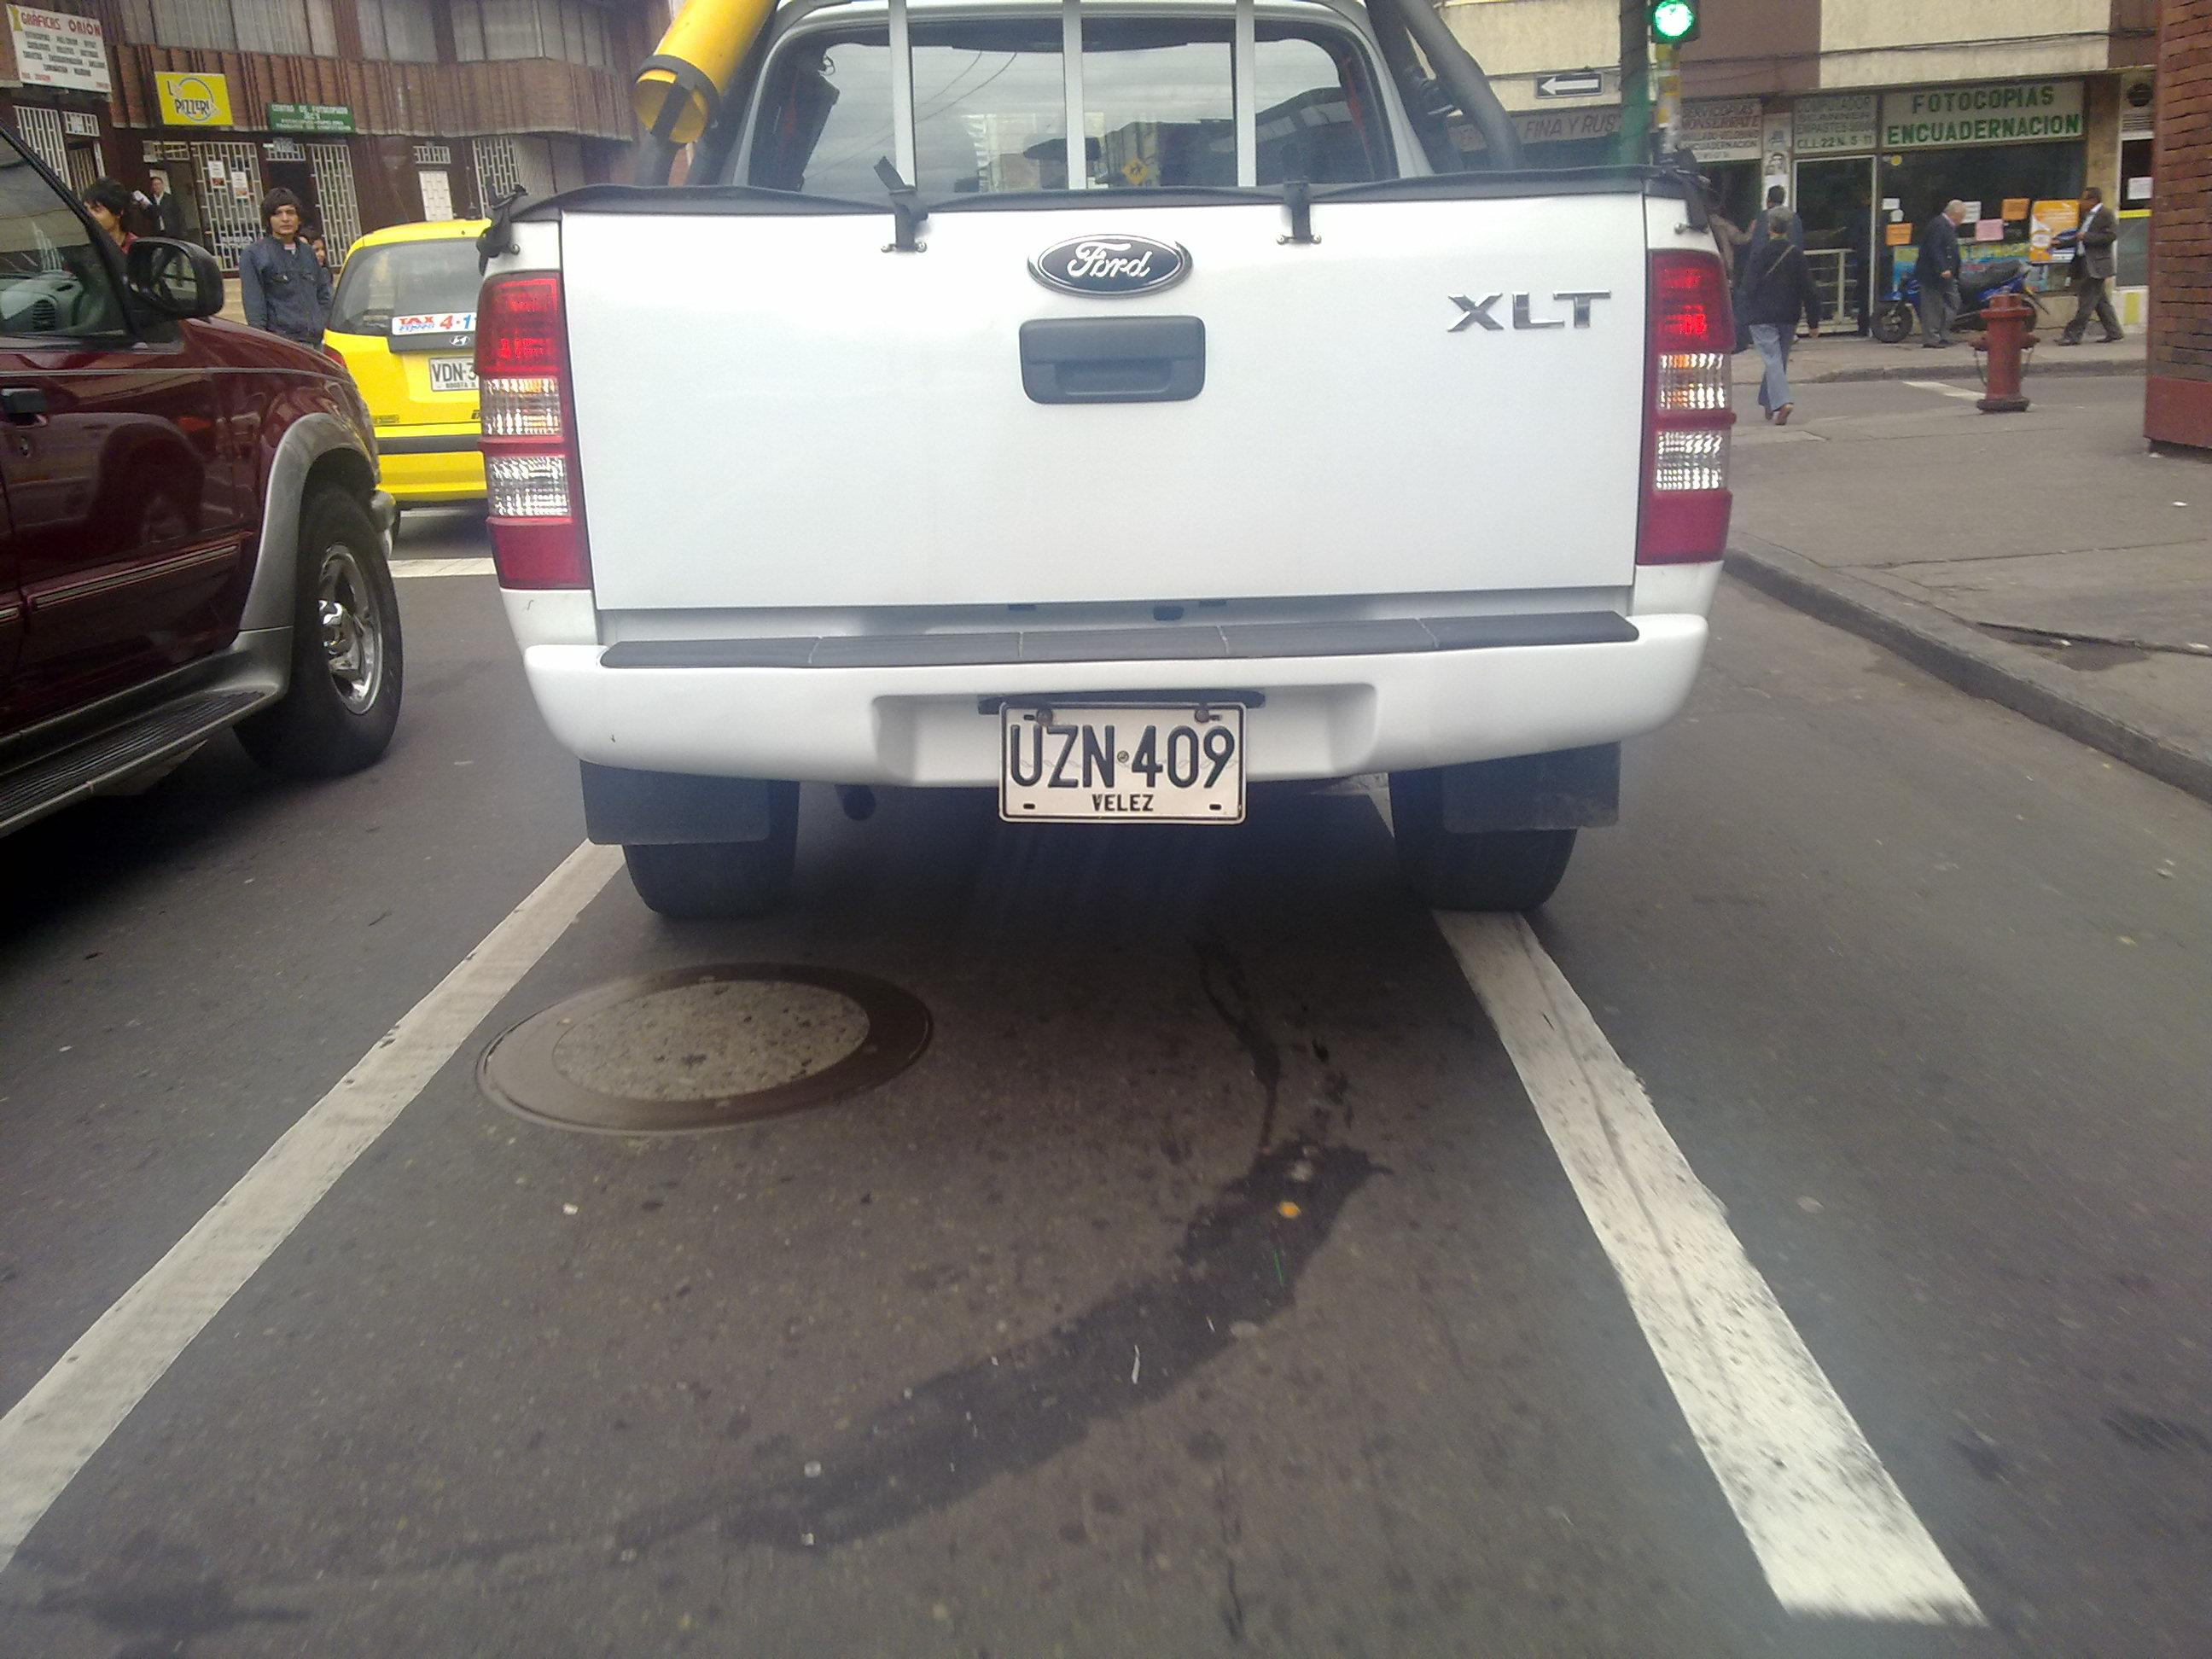placas: (988, 688, 1253, 834)
